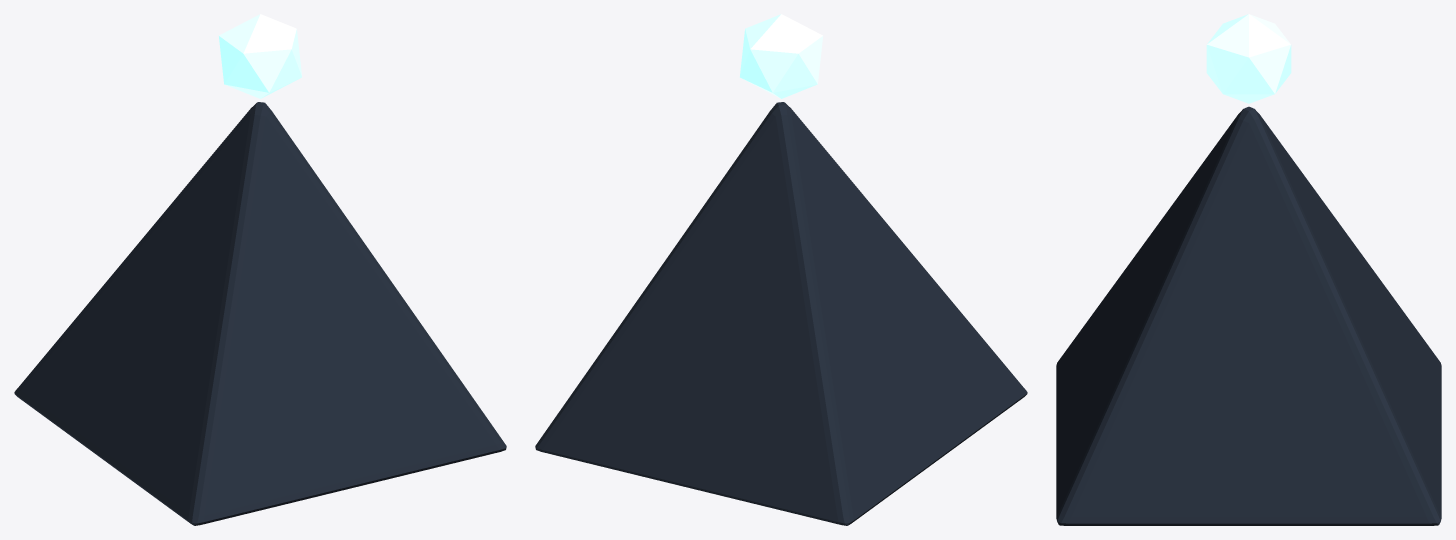
Rendered from protector_pyramid.glb.
3 views of the same model, side by side, from view 1: azimuth 30°, elevation 25°; view 2: azimuth 150°, elevation 25°; view 3: azimuth 270°, elevation 25° (orthographic). The views are drawn at different scales.
Parts seen in each view (by area): view 1: ProtectorPyramid, ApexCrystal; view 2: ProtectorPyramid, ApexCrystal; view 3: ProtectorPyramid, ApexCrystal.
Boxes of the visible parts, left/top/right/bottom form: ProtectorPyramid: left=14, top=102, right=506, bottom=525; ApexCrystal: left=219, top=14, right=301, bottom=98; ProtectorPyramid: left=535, top=102, right=1027, bottom=525; ApexCrystal: left=740, top=14, right=822, bottom=98; ProtectorPyramid: left=1056, top=106, right=1441, bottom=525; ApexCrystal: left=1206, top=14, right=1291, bottom=103.
Bounding box in the file's own units: 1.4 × 1.73 × 1.4.
